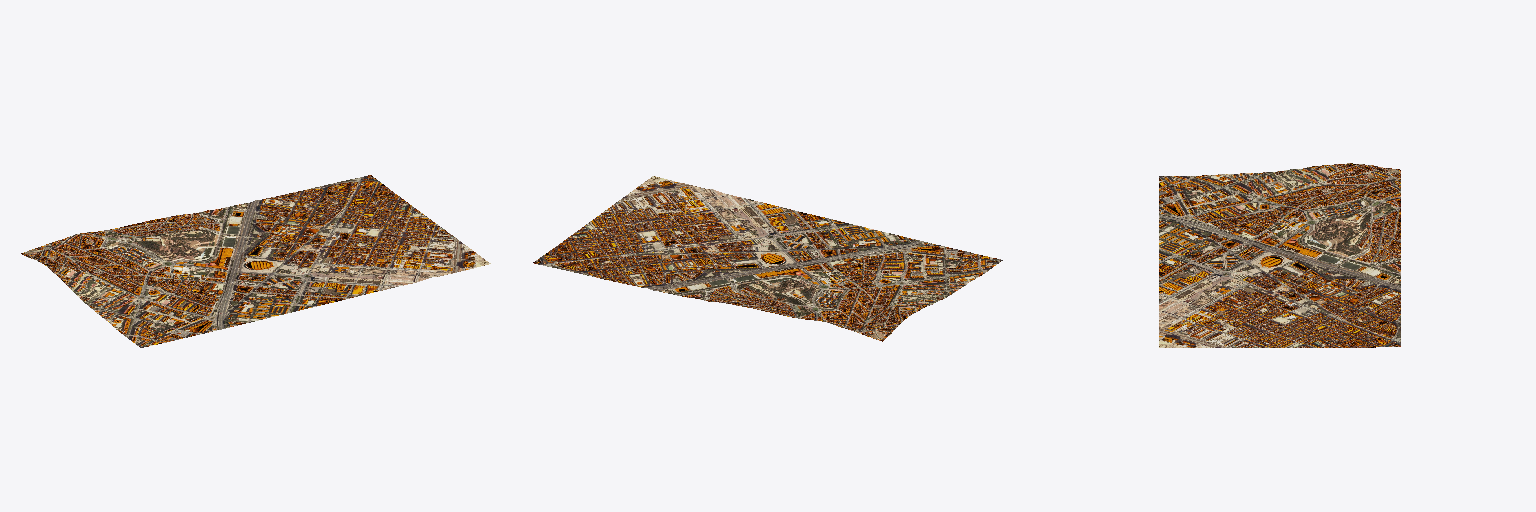
3 views of the same model, side by side, from view 1: azimuth 30°, elevation 25°; view 2: azimuth 150°, elevation 25°; view 3: azimuth 270°, elevation 25° (orthographic).
Visible parts, largest first — view 1: badalona_MetElipResi; view 2: badalona_MetElipResi; view 3: badalona_MetElipResi.
Part boxes in pixels (x1,y1,x2,y2): badalona_MetElipResi: (21, 175, 490, 347); badalona_MetElipResi: (533, 176, 1002, 341); badalona_MetElipResi: (1159, 163, 1400, 347).
Size of the model in its own units: 14.14 by 0.554 by 8.42.
Materials: 1 (1 with a texture image).